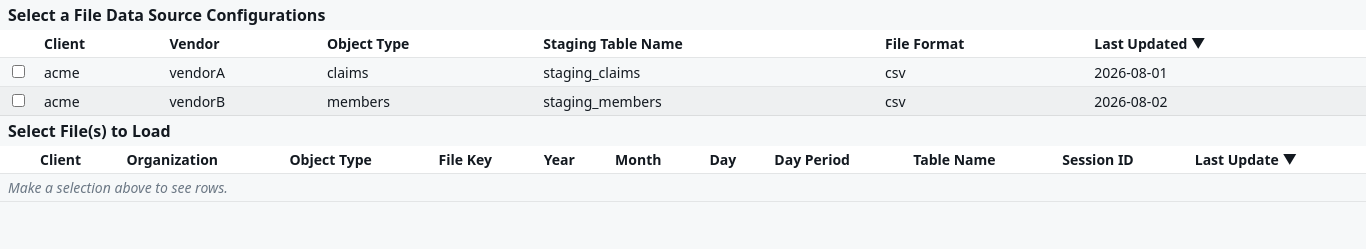
Test: load_files, end to end › refilters the second table when the first table's selection changes
This screenshot has width=1366, height=249.
Check: the text "staging_claims" is shown, box [535, 58, 877, 86]
Click the checkbox named "Select row 1" at (18, 72), box [12, 65, 25, 78]
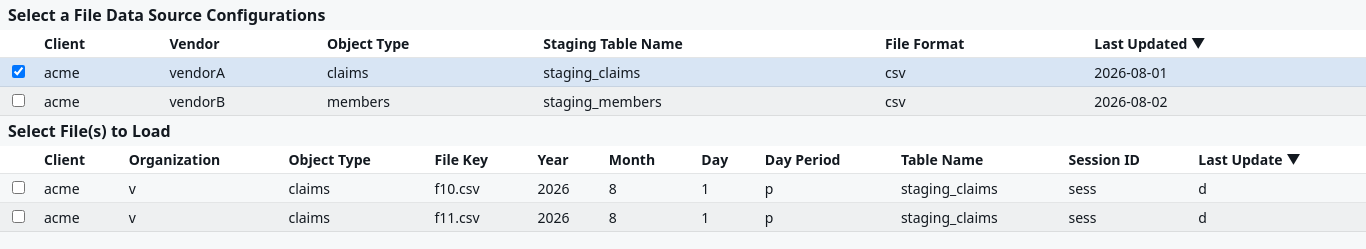
Check: the text "f10.csv" is shown, box [426, 174, 530, 202]
Click the checkbox named "Select row 2" in the row of "vendorB" at (18, 100), box [12, 94, 25, 107]
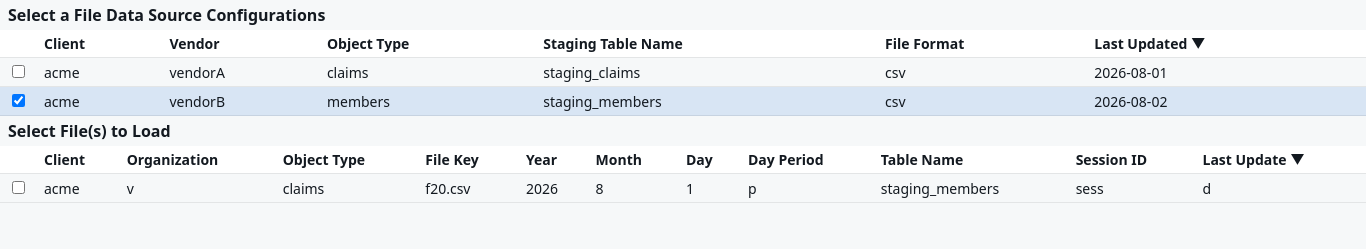
Check: the text "f20.csv" is shown, box [417, 174, 518, 202]
Check: the text "f10.csv" is gone
